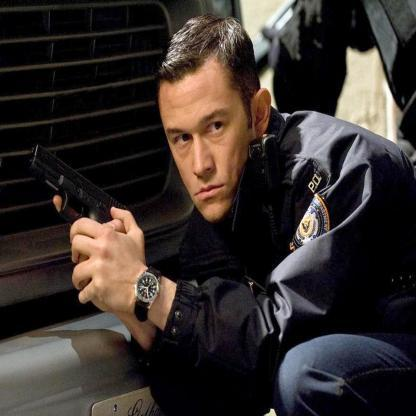gun: (29, 128, 128, 245)
